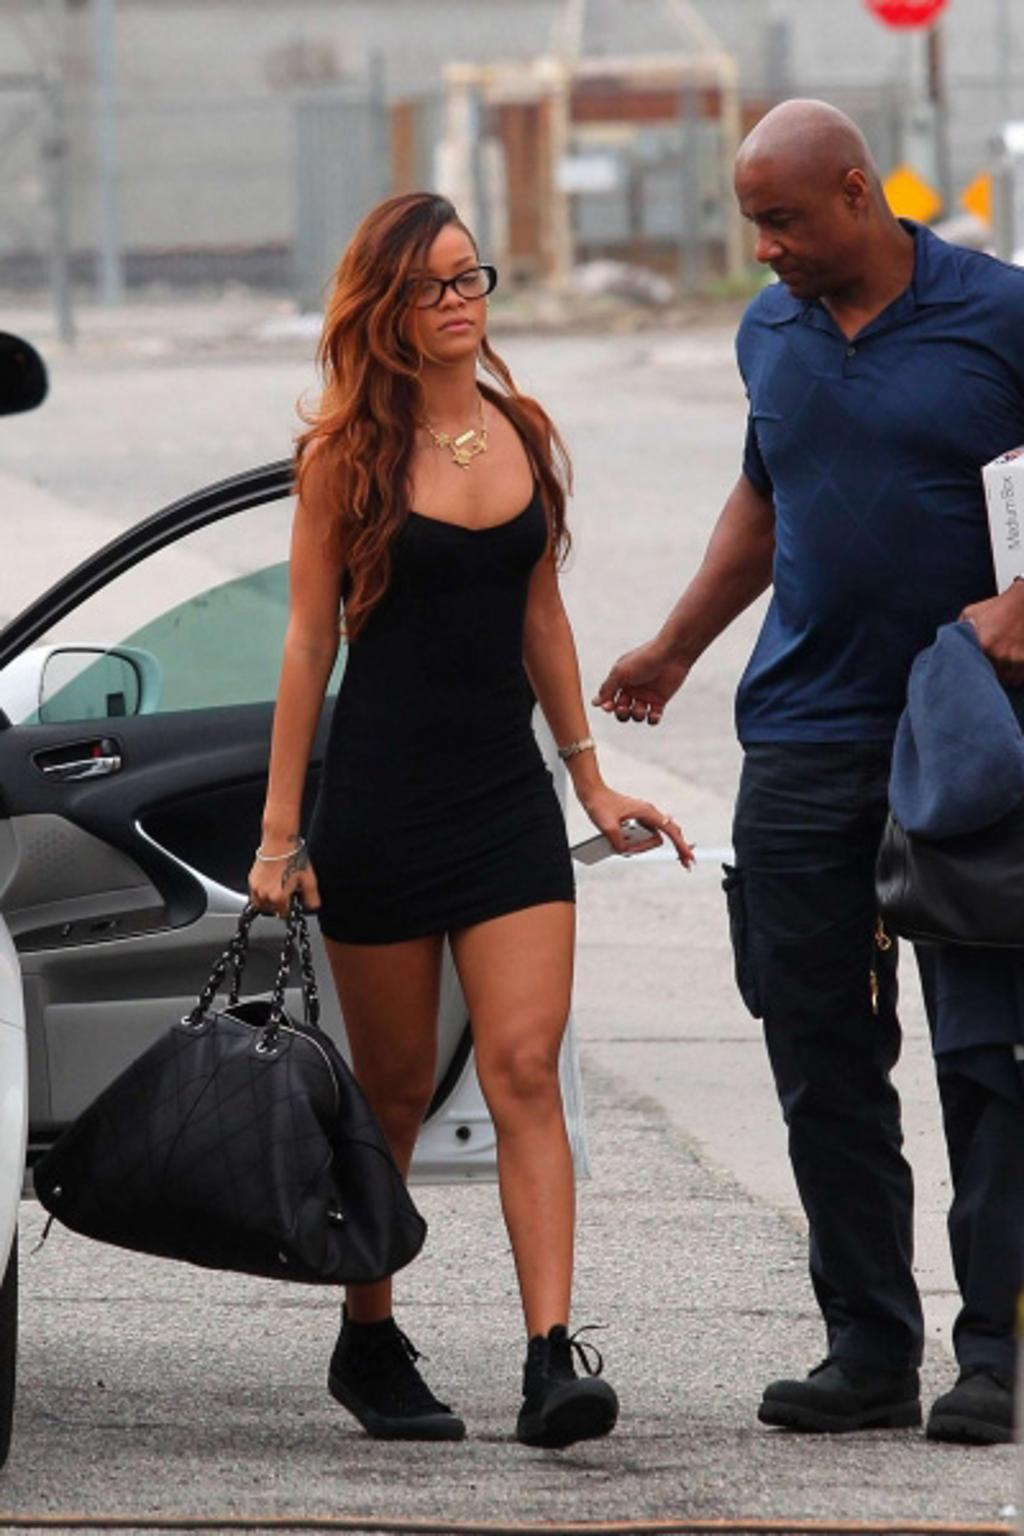face: (742, 156, 844, 297), (384, 228, 489, 354)
